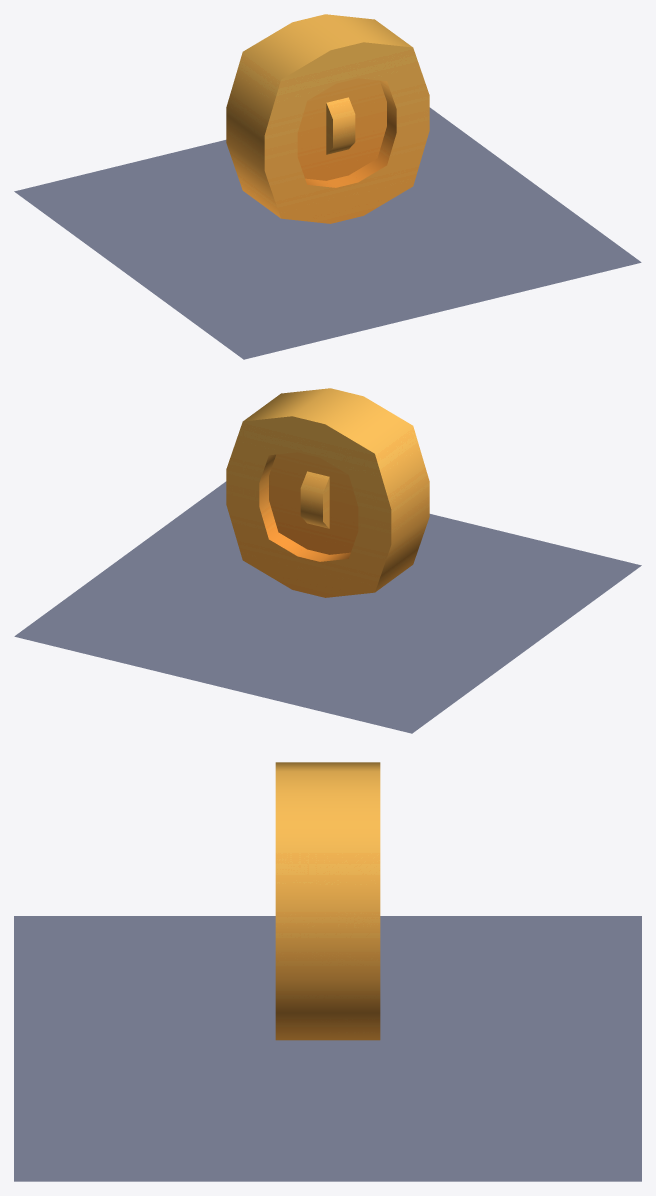
Rendered from floor_coin.glb.
The picture shows the model from 3 angles, top to bottom: view 1: azimuth 30°, elevation 25°; view 2: azimuth 150°, elevation 25°; view 3: azimuth 270°, elevation 25°; orthographic projection. The views are drawn at different scales.
Visible parts, largest first — view 1: floor_coin; view 2: floor_coin; view 3: floor_coin.
Part boxes in pixels (x1,y1,x2,y2): floor_coin: (14, 14, 641, 359); floor_coin: (14, 388, 641, 733); floor_coin: (14, 762, 641, 1181).
Size of the model in its own units: 1 by 0.4675 by 1.
Materials: 2 (2 with a texture image).
